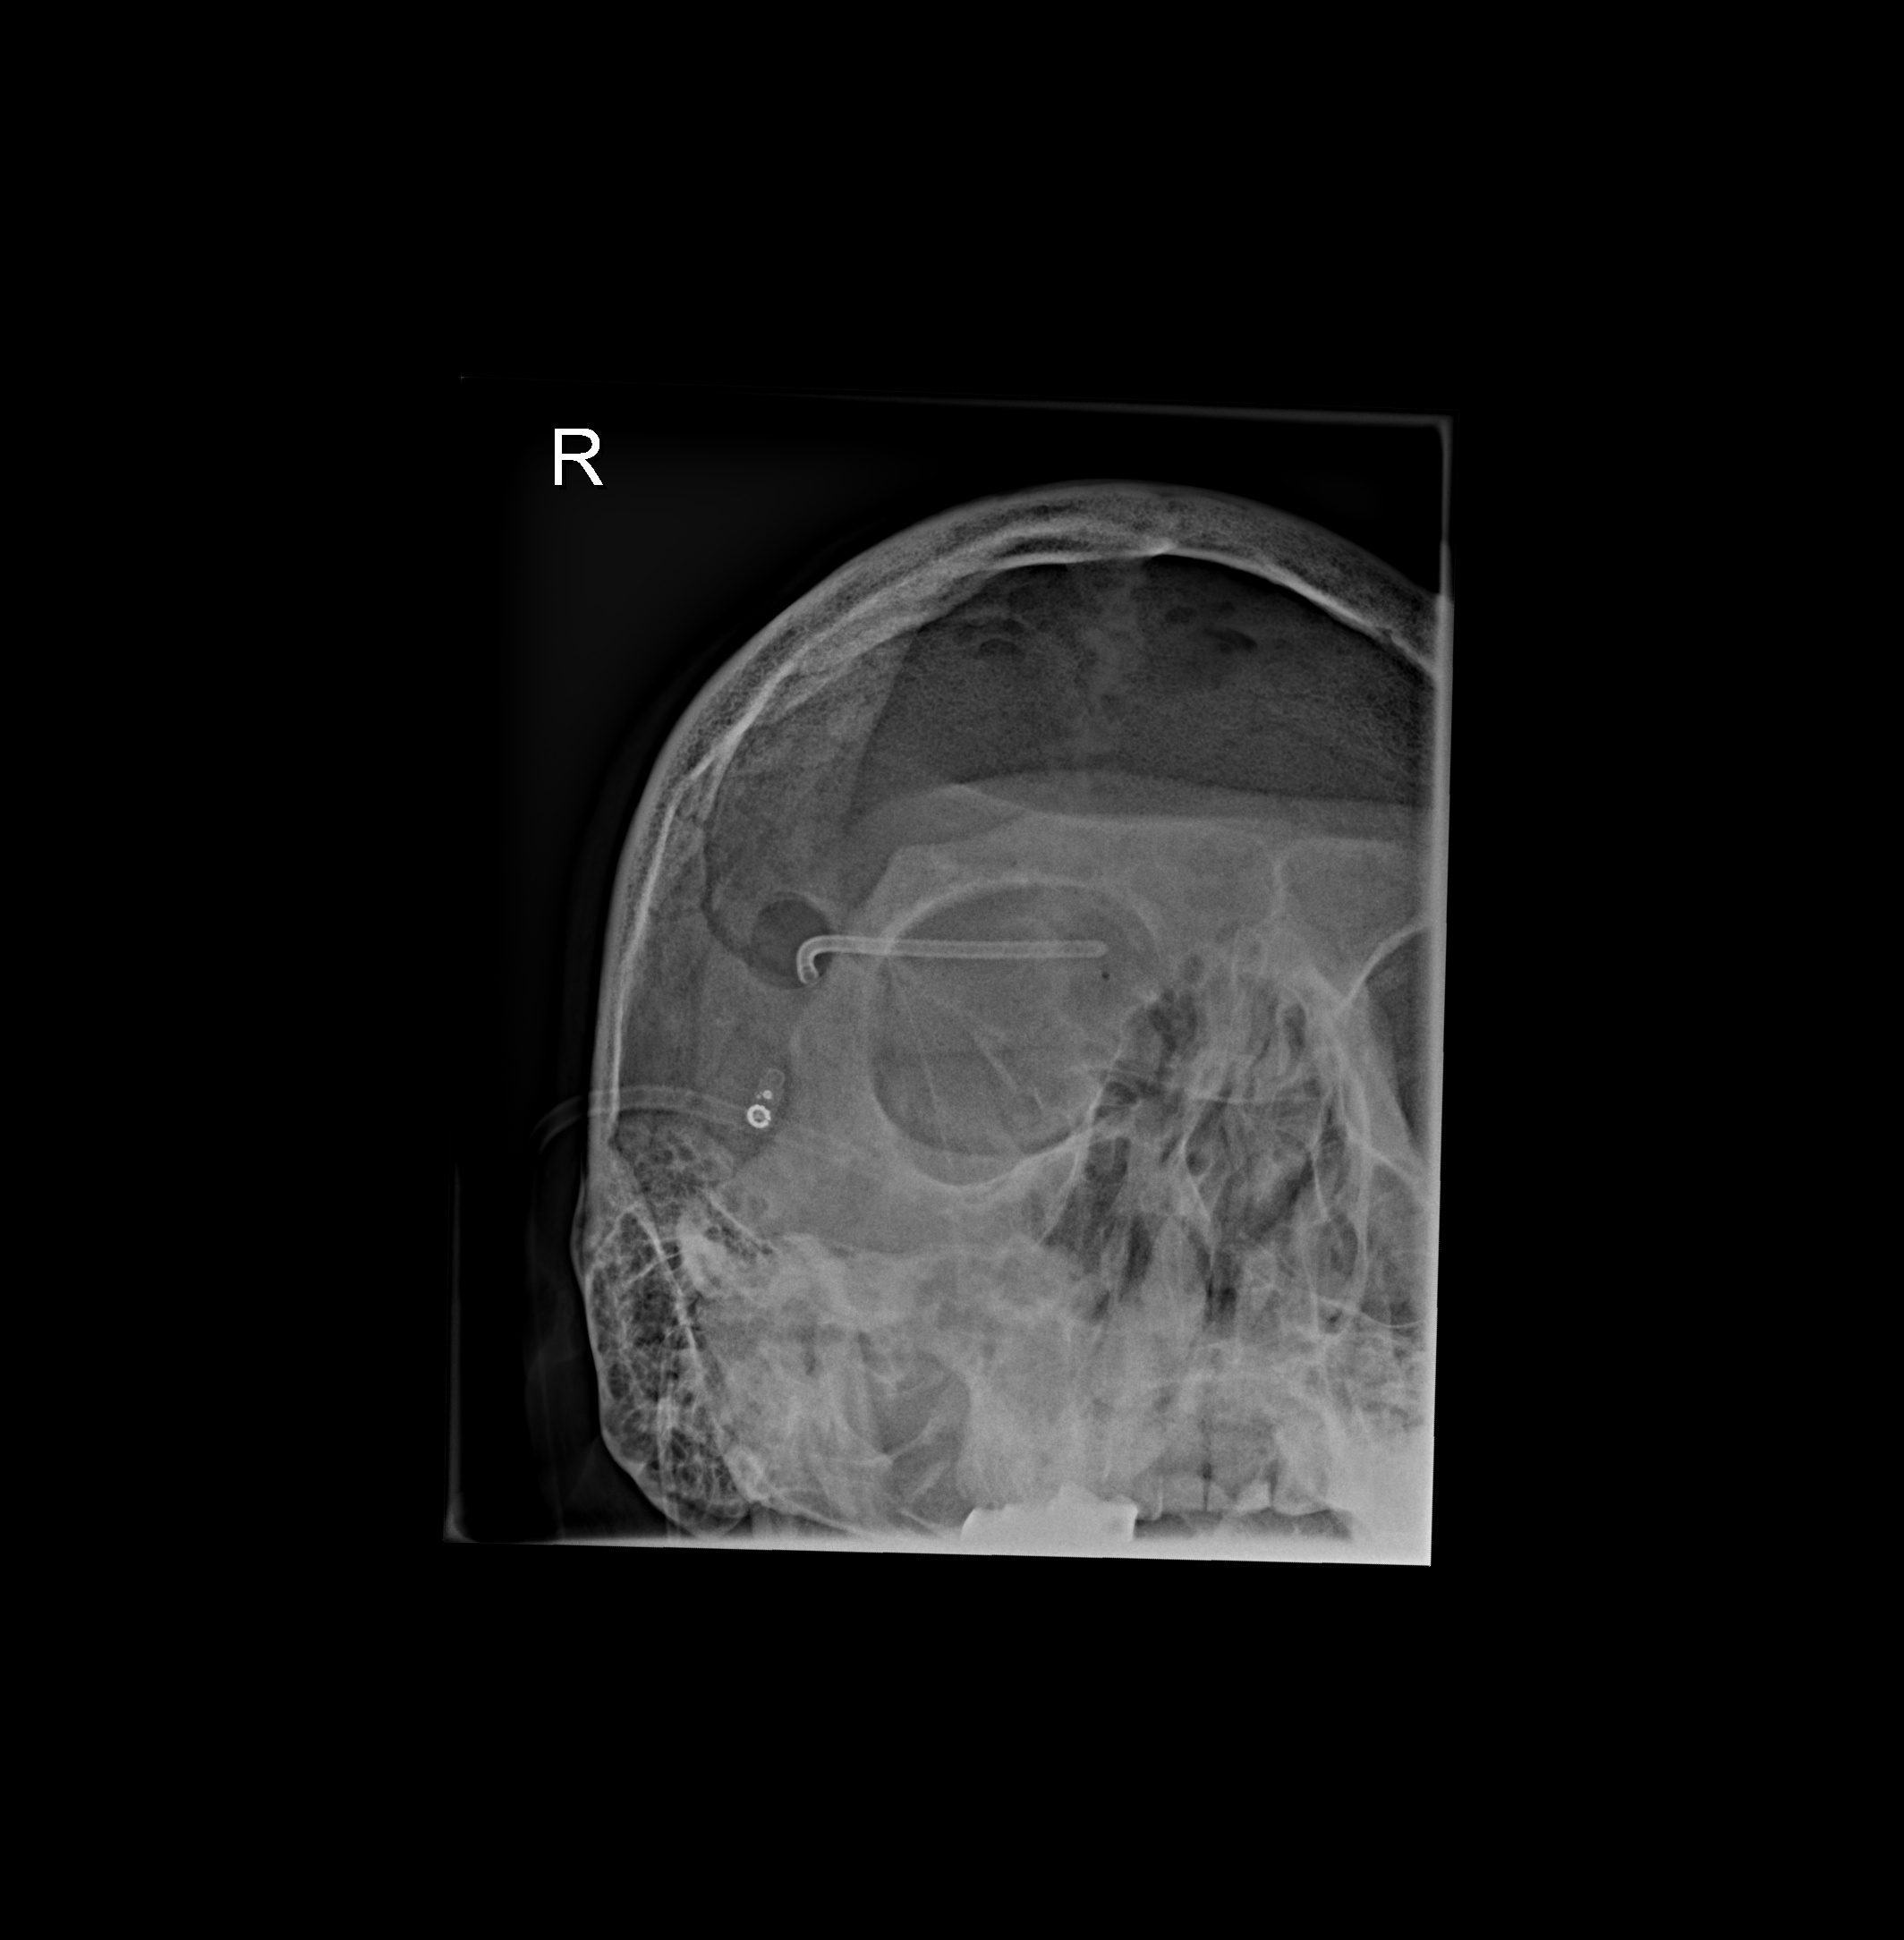Codman Hakim: (738, 1082, 786, 1143)
